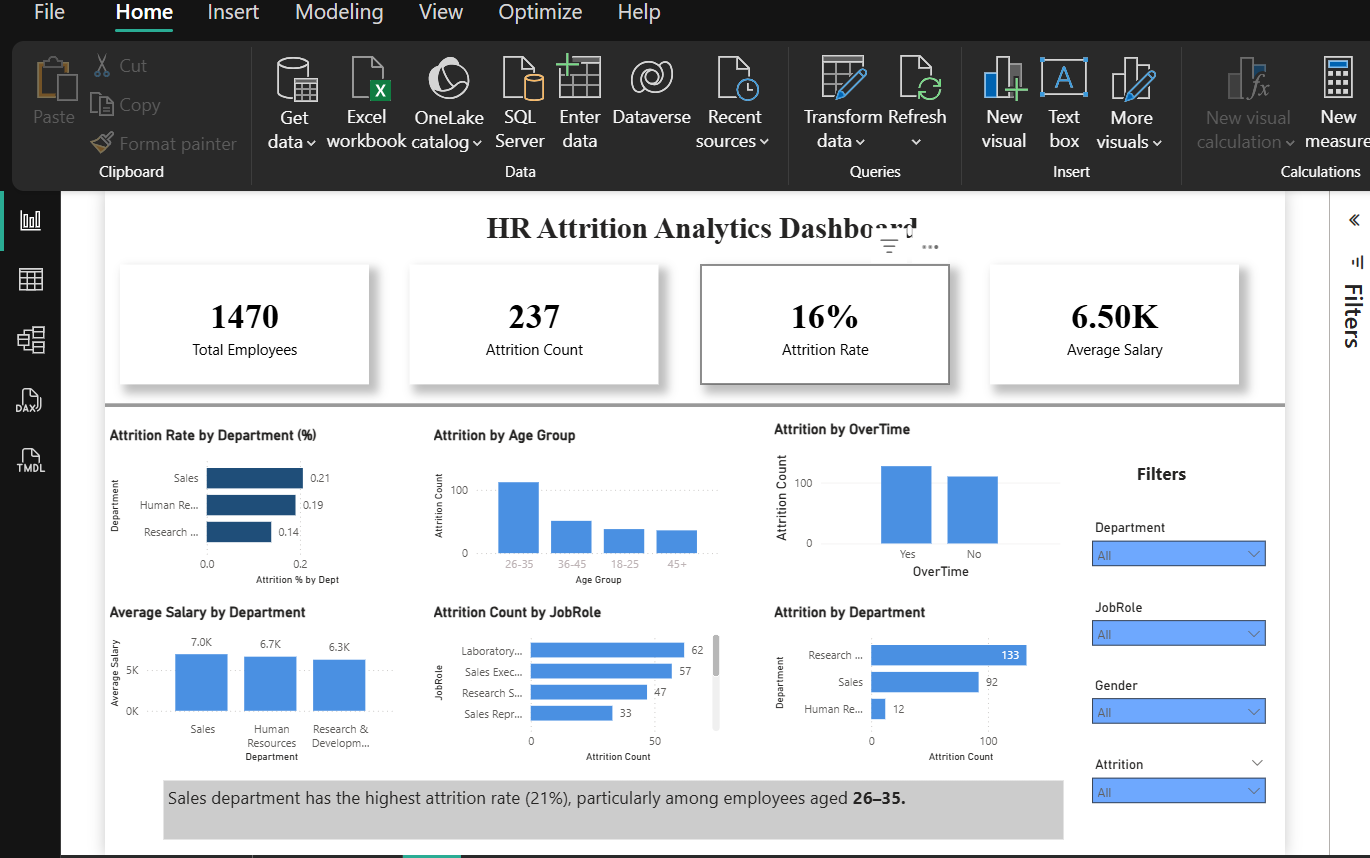

Layout of this report page (visuals, bound fields, positions):
{"tool":"powerbi","page":{"name":"Dashboard","canvas":[1280,720],"ordinal":0},"visuals":[{"type":"textbox","box":[384,16,528,48],"z":0},{"type":"card","fields":{"Values":["WA_Fn-UseC_-HR-Employee-Attriti.Total Employees"]},"box":[16,80,270,130],"z":1000},{"type":"card","fields":{"Values":["WA_Fn-UseC_-HR-Employee-Attriti.Attrition Count"]},"box":[330.7,80,270,130],"z":2000},{"type":"card","fields":{"Values":["WA_Fn-UseC_-HR-Employee-Attriti.Attrition Rate"]},"box":[645.3,80,270,130],"z":3000},{"type":"card","fields":{"Values":["WA_Fn-UseC_-HR-Employee-Attriti.Average Salary"]},"box":[960,80,270,130],"z":4000},{"type":"clusteredColumnChart","title":"Attrition by OverTime","fields":{"Category":["WA_Fn-UseC_-HR-Employee-Attriti.OverTime"],"Y":["WA_Fn-UseC_-HR-Employee-Attriti.Attrition Count"]},"box":[721.4,248.4,320,176],"z":5000},{"type":"clusteredBarChart","title":"Attrition by Department","fields":{"Category":["WA_Fn-UseC_-HR-Employee-Attriti.Department"],"Y":["WA_Fn-UseC_-HR-Employee-Attriti.Attrition Count"]},"box":[720,448,320,176],"z":6000},{"type":"clusteredColumnChart","title":"Attrition  by Age Group","fields":{"Category":["WA_Fn-UseC_-HR-Employee-Attriti.Age Group"],"Y":["WA_Fn-UseC_-HR-Employee-Attriti.Attrition Count"]},"box":[352,256,320,176],"z":7000},{"type":"clusteredBarChart","fields":{"Category":["WA_Fn-UseC_-HR-Employee-Attriti.JobRole"],"Y":["WA_Fn-UseC_-HR-Employee-Attriti.Attrition Count"]},"box":[352,448,320,176],"z":8000},{"type":"clusteredColumnChart","fields":{"Category":["WA_Fn-UseC_-HR-Employee-Attriti.Department"],"Y":["WA_Fn-UseC_-HR-Employee-Attriti.Average Salary"]},"box":[0,448,320,176],"z":9000},{"type":"slicer","fields":{"Values":["WA_Fn-UseC_-HR-Employee-Attriti.Department"]},"box":[1060.9,351.7,208,64],"z":10000},{"type":"slicer","fields":{"Values":["WA_Fn-UseC_-HR-Employee-Attriti.Gender"]},"box":[1060.9,522.8,208,64],"z":11000},{"type":"slicer","fields":{"Values":["WA_Fn-UseC_-HR-Employee-Attriti.JobRole"]},"box":[1060.9,437.3,208,64],"z":12000},{"type":"slicer","fields":{"Values":["WA_Fn-UseC_-HR-Employee-Attriti.Attrition"]},"box":[1060.9,608.3,208,64],"z":13000},{"type":"clusteredBarChart","title":"Attrition Rate by Department (%)","fields":{"Category":["WA_Fn-UseC_-HR-Employee-Attriti.Department"],"Y":["WA_Fn-UseC_-HR-Employee-Attriti.Attrition % by Dept"]},"box":[0,256,320,176],"z":14000},{"type":"shape","box":[0,208,1280,48],"z":15000},{"type":"textbox","box":[1088,288,128,48],"z":16000},{"type":"textbox","box":[64,640,976,64],"z":17000}]}

Visuals, with their boxes on the page's 1280x720 design canvas (x1, y1, x2, y2). These are canvas units, not pixel positions in the 1370x858 screenshot, which may show the page scaled, cropped or inside an application window:
textbox: region(384, 16, 912, 64)
card - WA_Fn-UseC_-HR-Employee-Attriti.Total Employees: region(16, 80, 286, 210)
card - WA_Fn-UseC_-HR-Employee-Attriti.Attrition Count: region(331, 80, 601, 210)
card - WA_Fn-UseC_-HR-Employee-Attriti.Attrition Rate: region(645, 80, 915, 210)
card - WA_Fn-UseC_-HR-Employee-Attriti.Average Salary: region(960, 80, 1230, 210)
"Attrition by OverTime" clusteredColumnChart: region(721, 248, 1041, 424)
"Attrition by Department" clusteredBarChart: region(720, 448, 1040, 624)
"Attrition  by Age Group" clusteredColumnChart: region(352, 256, 672, 432)
clusteredBarChart - WA_Fn-UseC_-HR-Employee-Attriti.JobRole x WA_Fn-UseC_-HR-Employee-Attriti.Attrition Count: region(352, 448, 672, 624)
clusteredColumnChart - WA_Fn-UseC_-HR-Employee-Attriti.Department x WA_Fn-UseC_-HR-Employee-Attriti.Average Salary: region(0, 448, 320, 624)
slicer - WA_Fn-UseC_-HR-Employee-Attriti.Department: region(1061, 352, 1269, 416)
slicer - WA_Fn-UseC_-HR-Employee-Attriti.Gender: region(1061, 523, 1269, 587)
slicer - WA_Fn-UseC_-HR-Employee-Attriti.JobRole: region(1061, 437, 1269, 501)
slicer - WA_Fn-UseC_-HR-Employee-Attriti.Attrition: region(1061, 608, 1269, 672)
"Attrition Rate by Department (%)" clusteredBarChart: region(0, 256, 320, 432)
shape: region(0, 208, 1280, 256)
textbox: region(1088, 288, 1216, 336)
textbox: region(64, 640, 1040, 704)
